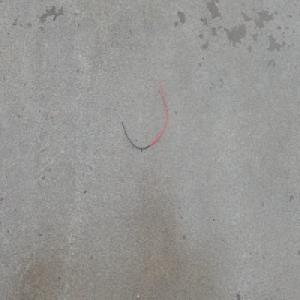Wire: (118, 74, 168, 150)
